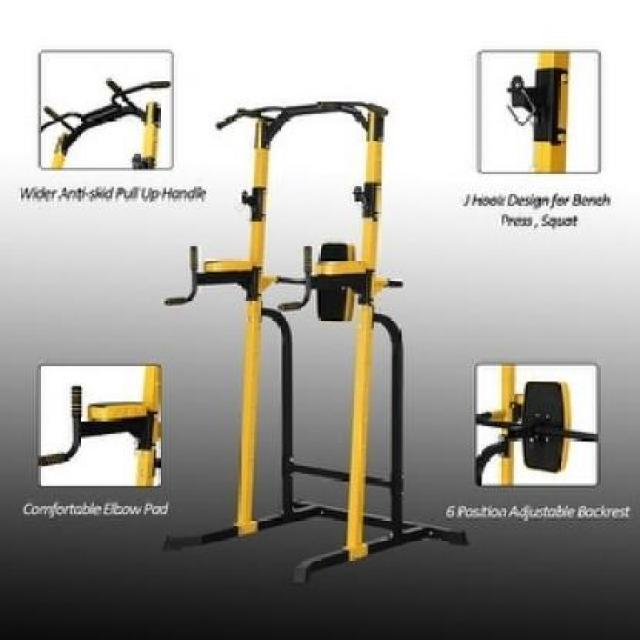chinning dipping: (206, 94, 446, 586)
